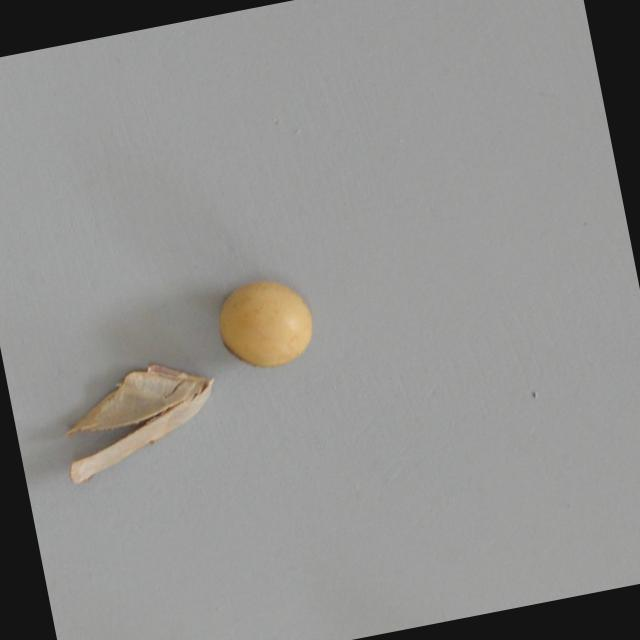cuerpos_extranos: (48, 349, 230, 487), (208, 267, 323, 377)
